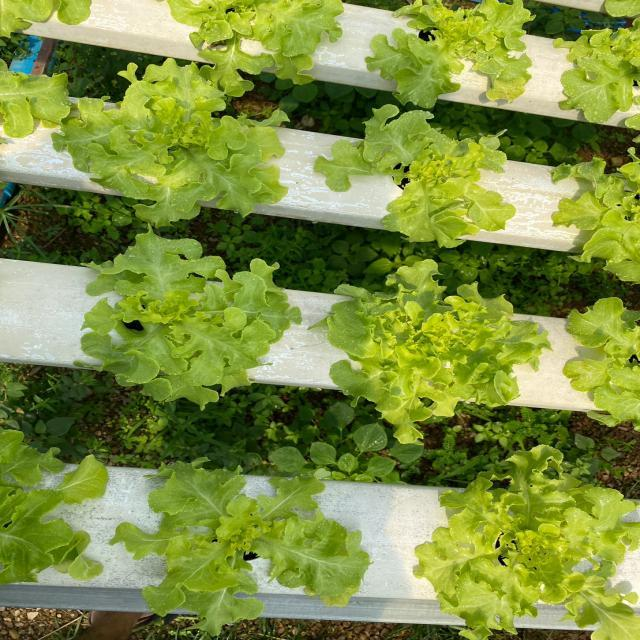Lettuce-Not-Ready-to-Harvest: (112, 472, 371, 640), (62, 65, 295, 233), (432, 472, 640, 638), (85, 246, 292, 391), (326, 121, 513, 241), (366, 0, 539, 111), (555, 157, 640, 284), (565, 298, 640, 428)
Lettuce-Ready-to-Harvest: (328, 280, 535, 435)
